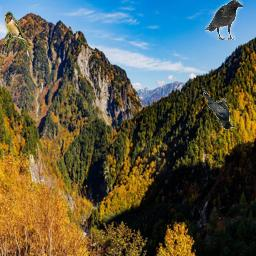Crow: (205, 0, 243, 40), (203, 90, 235, 130)
Swallow: (5, 11, 30, 51)
